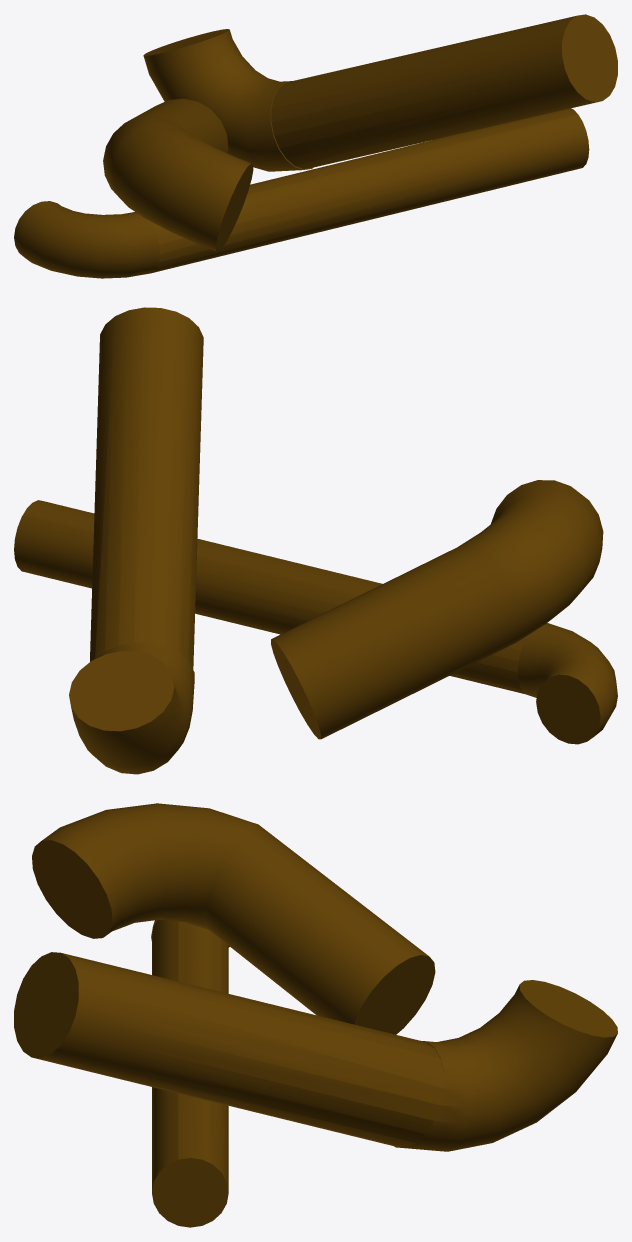
The model's file is 48_pipe_pile2.fbx.
3 renders of one model, top to bottom at view 1: azimuth 30°, elevation 25°; view 2: azimuth 150°, elevation 25°; view 3: azimuth 270°, elevation 25°, orthographic. The views are drawn at different scales.
Parts seen in each view (by area): view 1: pCylinder197; view 2: pCylinder197; view 3: pCylinder197.
Part boxes in pixels (<box>): pCylinder197: <box>14,14,617,278</box>; pCylinder197: <box>14,307,617,774</box>; pCylinder197: <box>14,803,617,1227</box>.
Bounding box in the file's own units: 0.9867 × 0.4106 × 0.8123.
